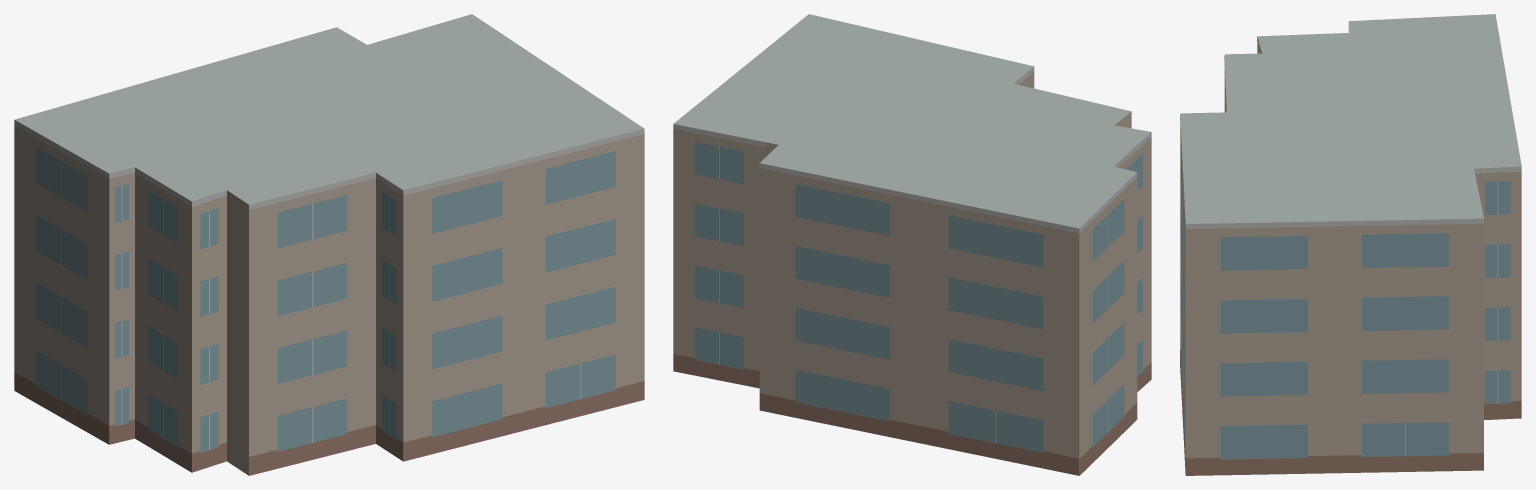
File: survey-upis-32473220.glb
3 views of the same model, side by side, from view 1: azimuth 30°, elevation 25°; view 2: azimuth 150°, elevation 25°; view 3: azimuth 270°, elevation 25° (orthographic). The views are drawn at different scales.
Visible parts, largest first — view 1: survey-upis-32473220.tmp; view 2: survey-upis-32473220.tmp; view 3: survey-upis-32473220.tmp.
Part boxes in pixels (<box>): survey-upis-32473220.tmp: <box>14,14,644,475</box>; survey-upis-32473220.tmp: <box>673,14,1151,475</box>; survey-upis-32473220.tmp: <box>1180,14,1521,475</box>.
Bounding box in the file's own units: 21.83 × 12.2 × 15.01.
